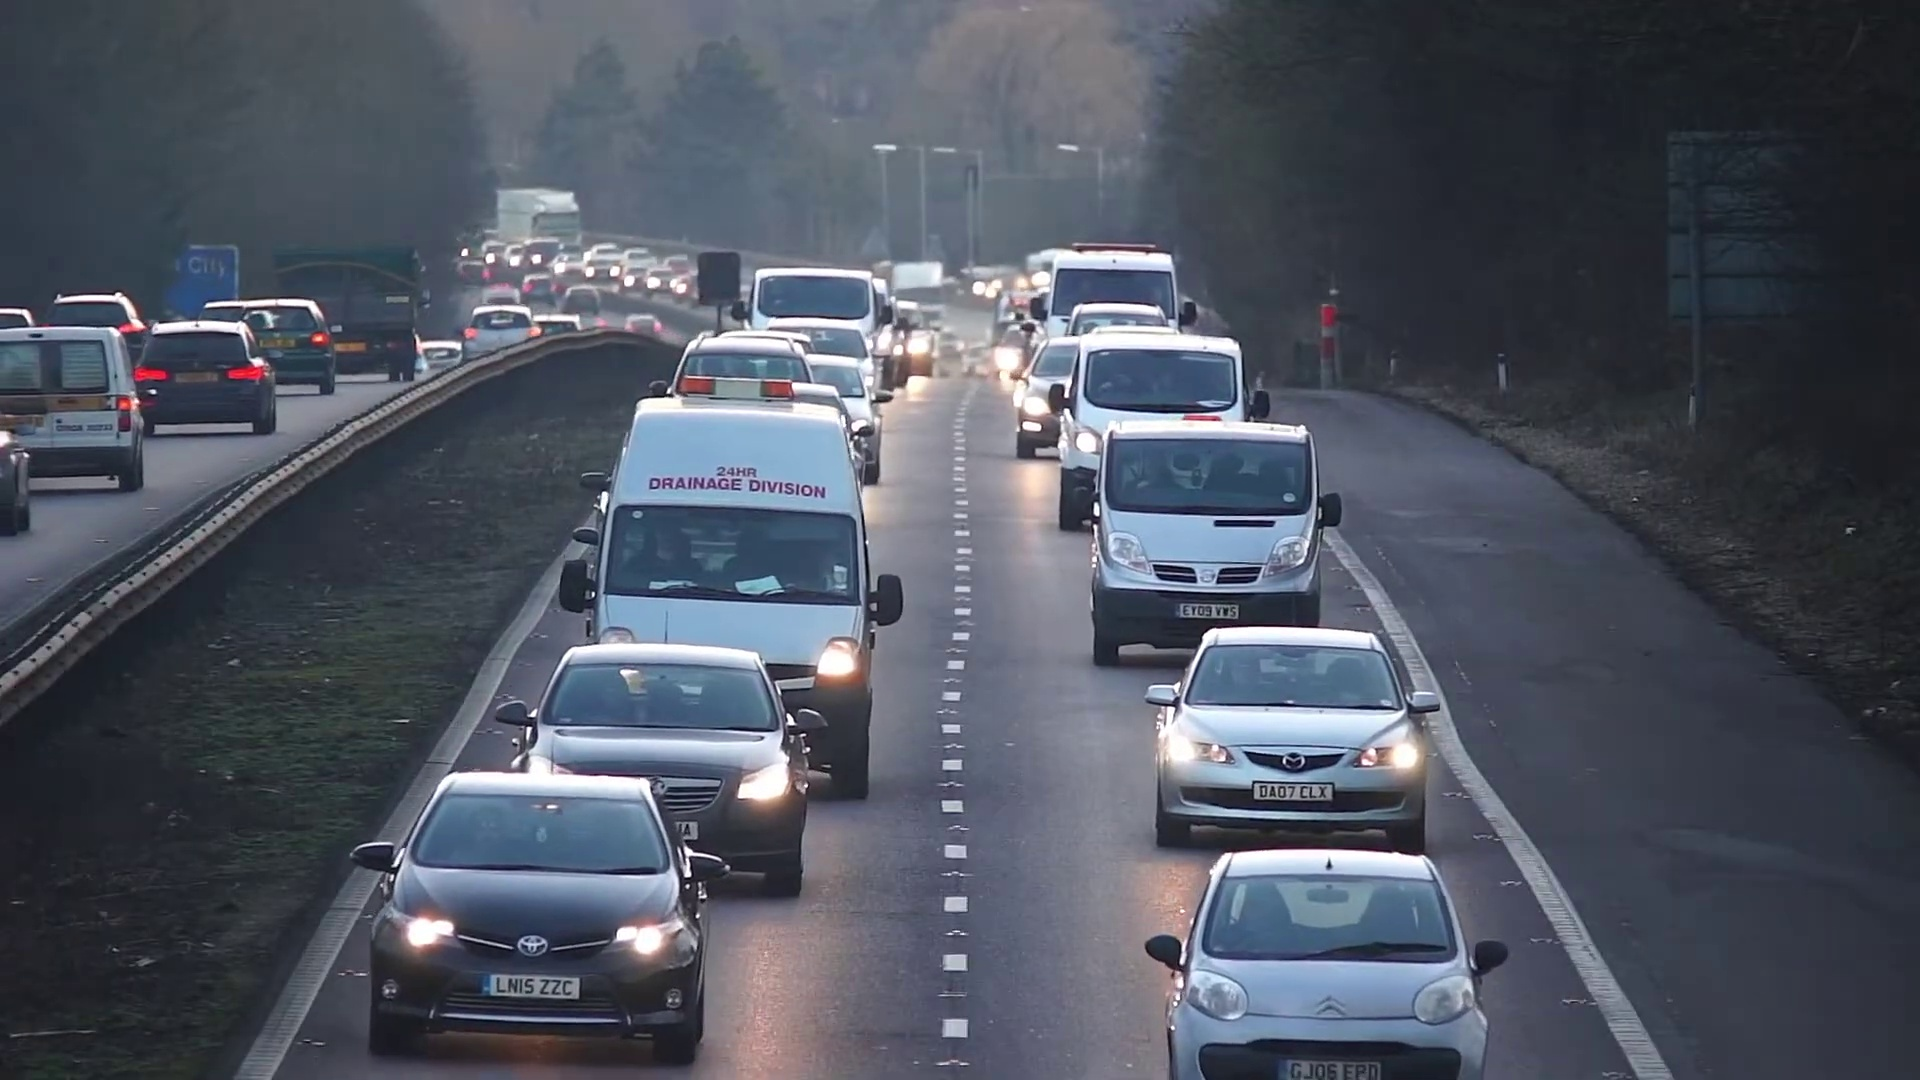license_plate: (482, 970, 580, 1000), (1278, 1057, 1381, 1080), (1252, 777, 1333, 803)
